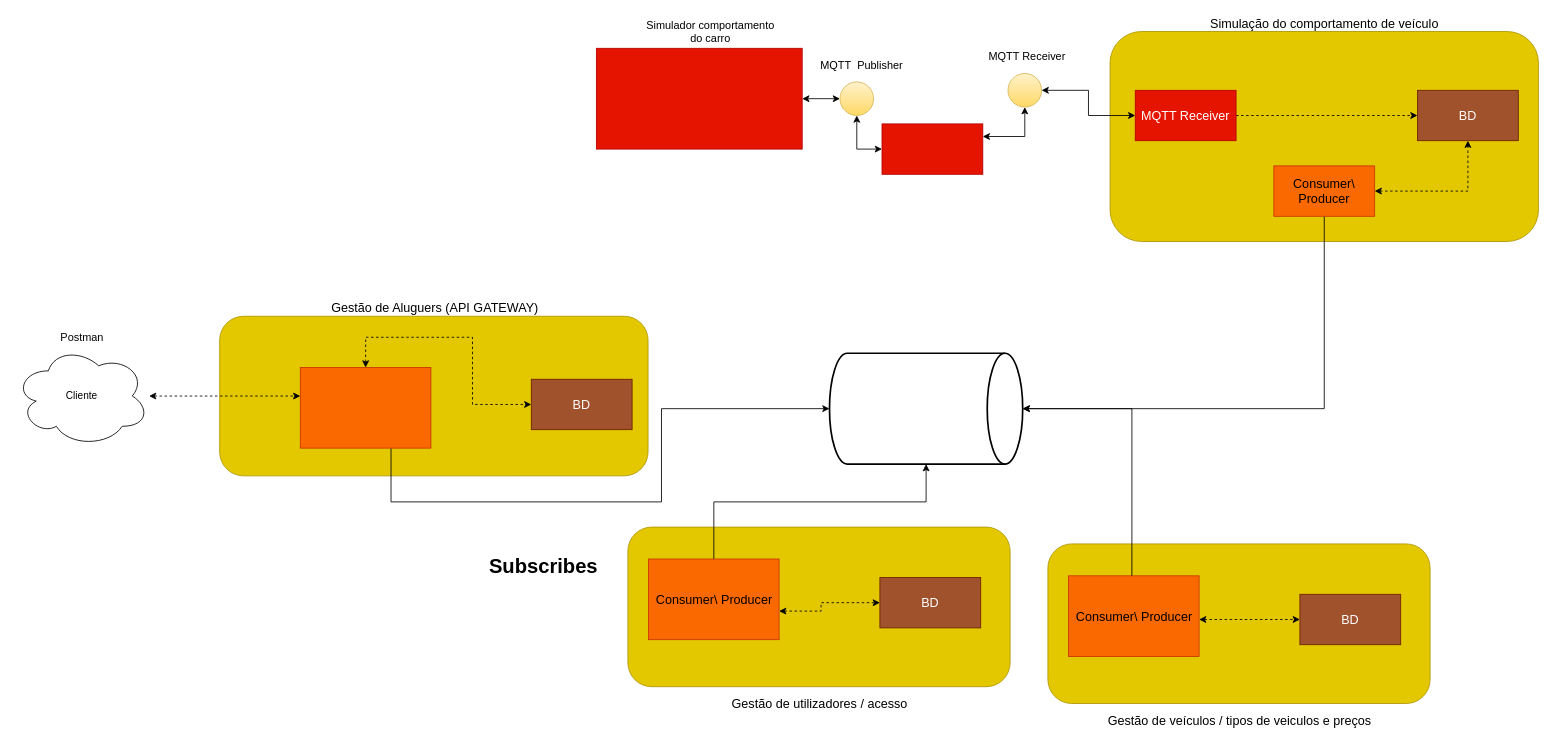
The diagram is 1553 pixels wide and 743 high, and some of its shapes have lost their labels. The shapes that lost their labels are listed below. From the top down, each one's centre as x and y in pixels, then its label:
the point at 699,98: Node Red
the point at 932,148: Mosquito
the point at 365,407: Servidor HTTP\ Producer\ Consumer
the point at 925,408: Redis
